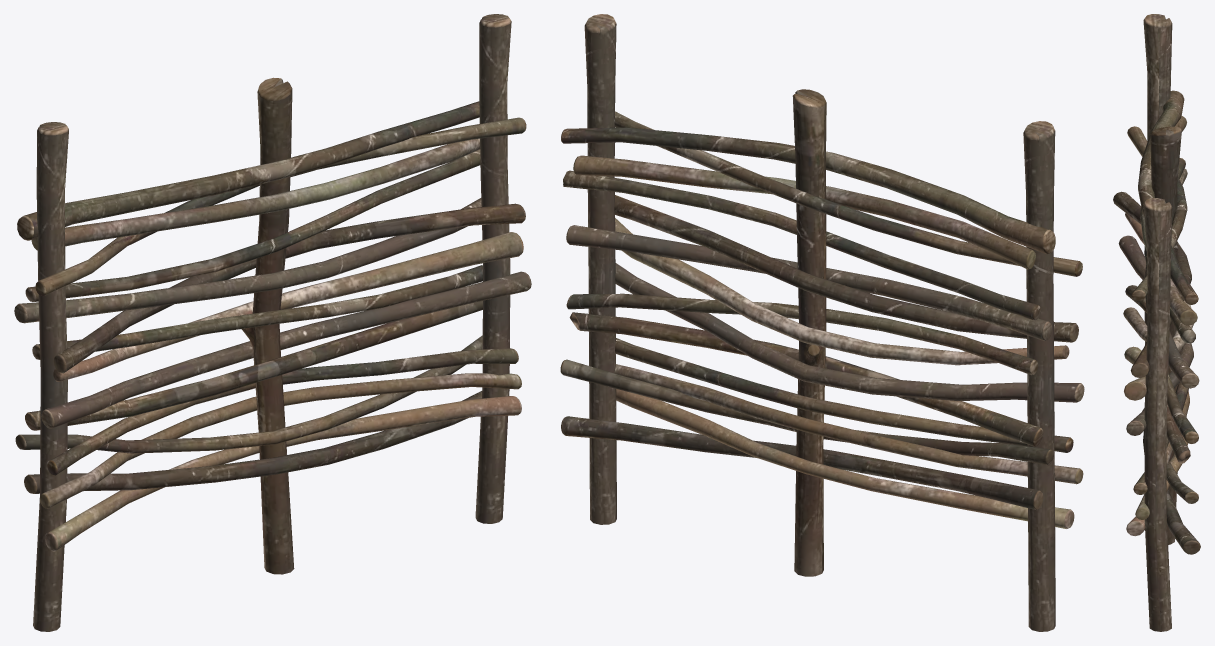
3 views of the same model, side by side, from view 1: azimuth 30°, elevation 25°; view 2: azimuth 150°, elevation 25°; view 3: azimuth 270°, elevation 25° (orthographic). The views are drawn at different scales.
Parts seen in each view (by area): view 1: SM_BB_T1_Fence_Hedge_End_LOD0; view 2: SM_BB_T1_Fence_Hedge_End_LOD0; view 3: SM_BB_T1_Fence_Hedge_End_LOD0.
Boxes of the visible parts, x1=… form: SM_BB_T1_Fence_Hedge_End_LOD0: x1=14, y1=14, x2=531, y2=631; SM_BB_T1_Fence_Hedge_End_LOD0: x1=560, y1=14, x2=1084, y2=631; SM_BB_T1_Fence_Hedge_End_LOD0: x1=1113, y1=14, x2=1200, y2=631.
Size of the model in its own units: 1.57 by 1.54 by 0.2867.
Materials: 1 (1 with a texture image).
